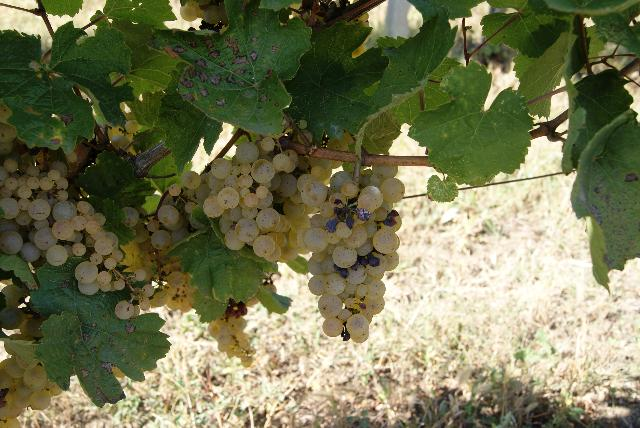grapes: (131, 135, 334, 261), (298, 165, 405, 342), (0, 158, 129, 294)
